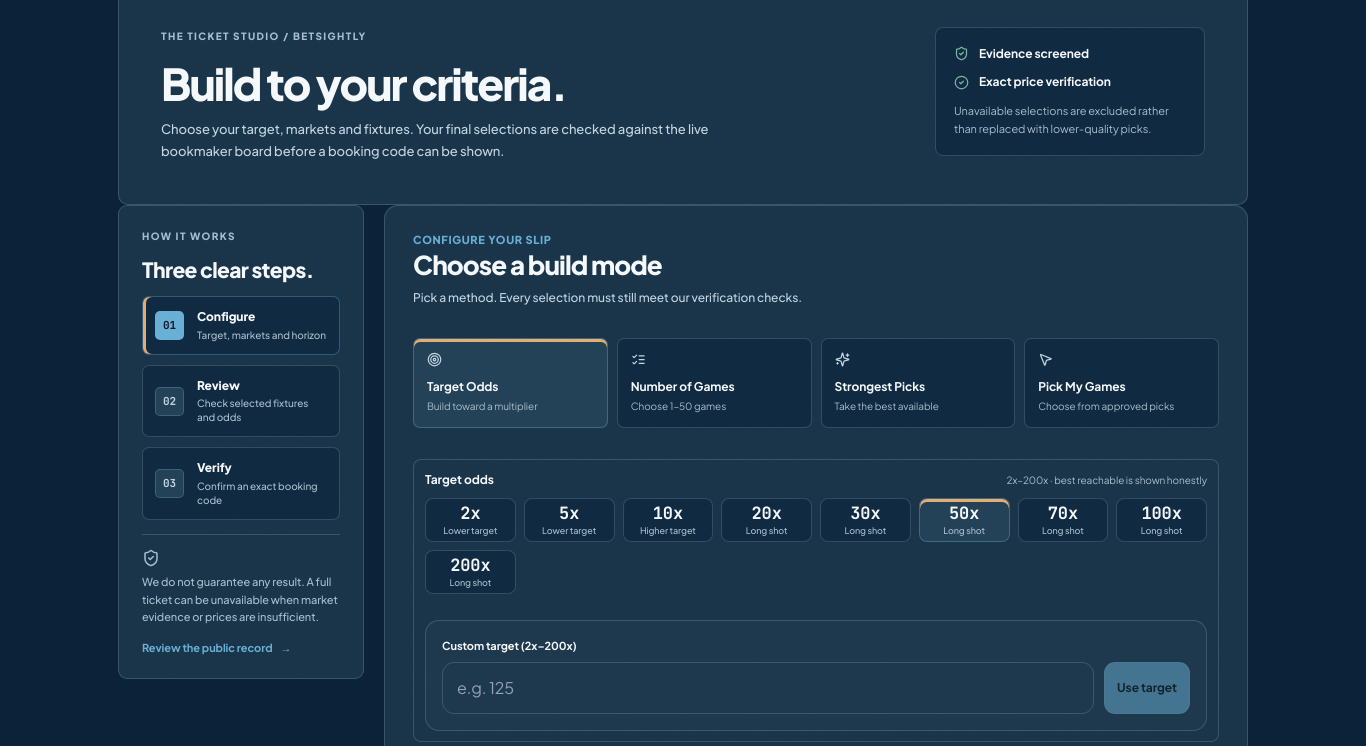
Test case: labels a below-target trustworthy result as quality capped
Click the button "70x Long shot" at (1063, 520), box x1=1018 y1=498 x2=1108 y2=542
(page scrolled)
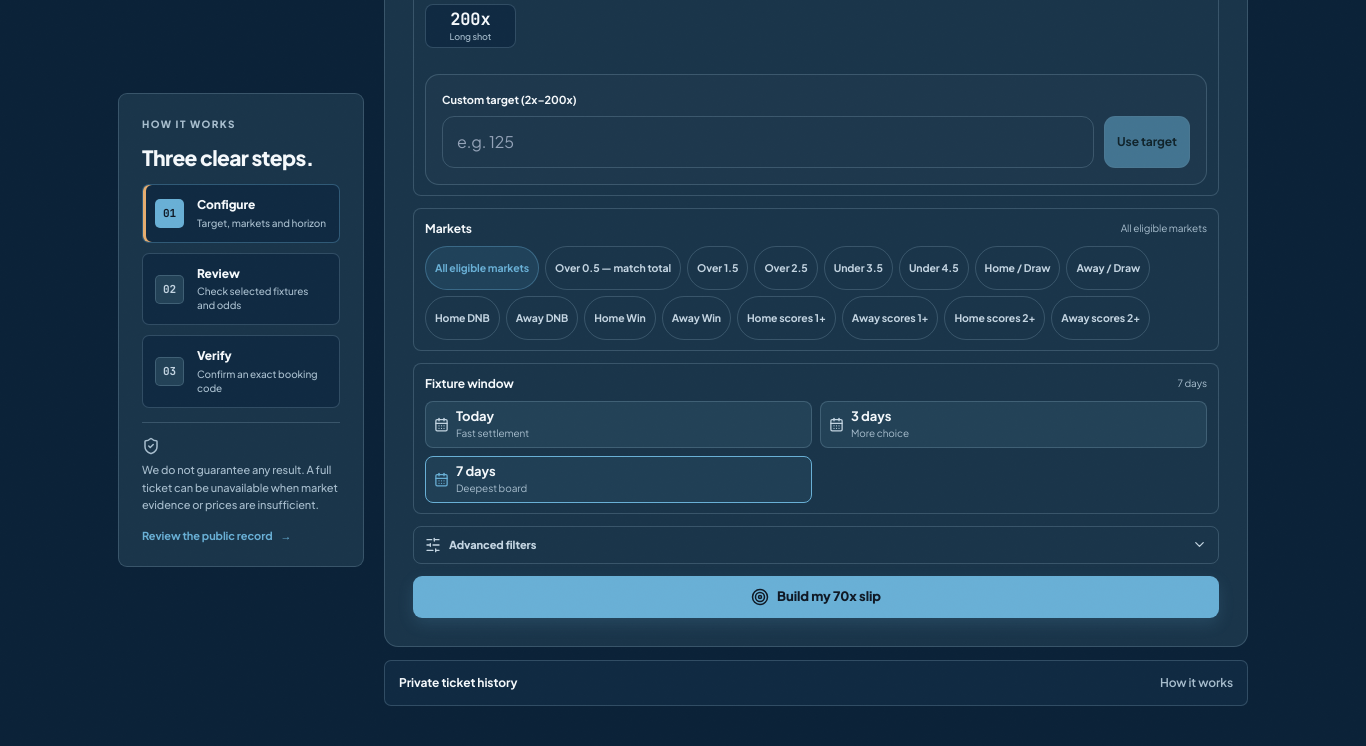
Click the button "Build my 70x slip" at (816, 596), box x1=413 y1=576 x2=1219 y2=618
(page scrolled)
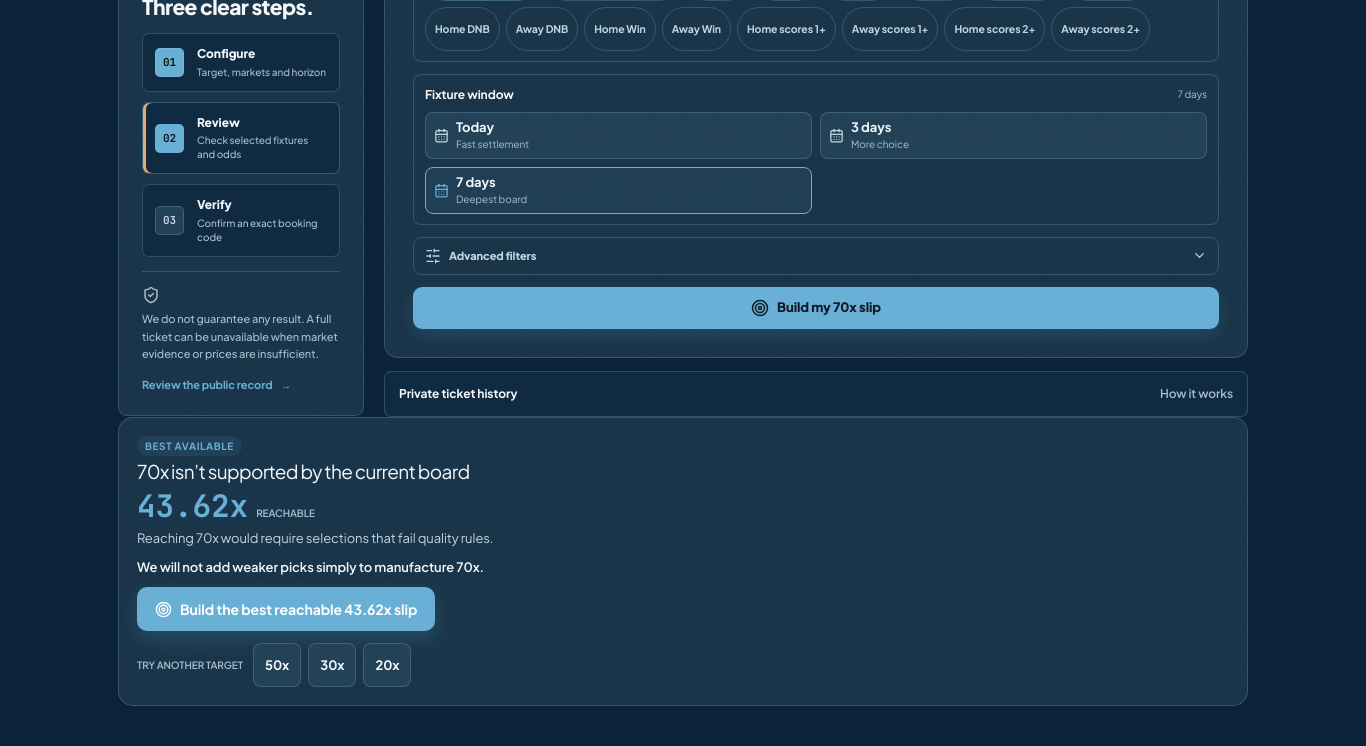
Result: the heading "70x isn’t supported by the current board" is shown at x1=137 y1=458 x2=470 y2=482
Result: the button "Build the best reachable 43.62x slip" is shown at x1=137 y1=587 x2=435 y2=631
